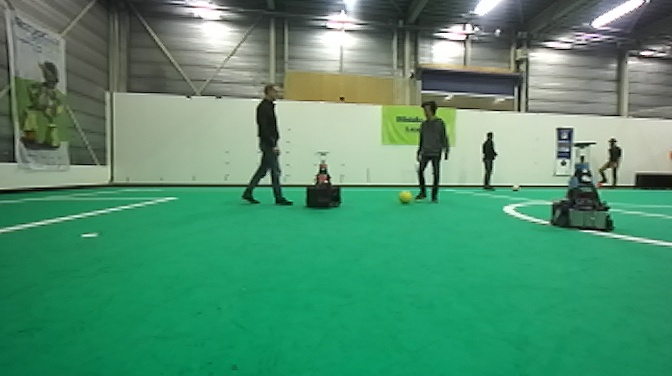ball: (398, 189, 411, 204), (595, 179, 604, 190), (511, 182, 520, 192)
human: (240, 83, 294, 207), (407, 101, 449, 205), (475, 128, 500, 191), (599, 135, 624, 189)
robot: (547, 140, 616, 231), (304, 150, 344, 213)
